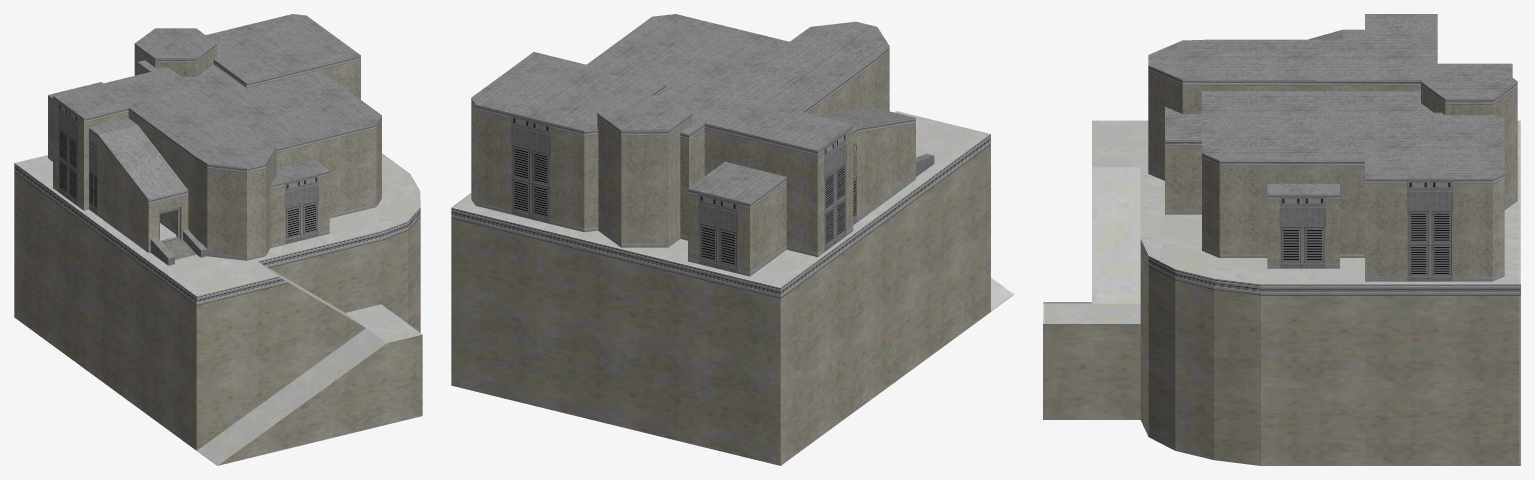
File: ply_all_house_lg_s02_fp1_r0_mesh_l2.fbx
The picture shows the model from 3 angles, left to right: view 1: azimuth 30°, elevation 25°; view 2: azimuth 150°, elevation 25°; view 3: azimuth 270°, elevation 25°; orthographic projection. The views are drawn at different scales.
Parts seen in each view (by area): view 1: mesh_node; view 2: mesh_node; view 3: mesh_node.
Part boxes in pixels (left/top/right/bottom): mesh_node: left=14, top=14, right=422, bottom=465; mesh_node: left=451, top=14, right=1014, bottom=465; mesh_node: left=1043, top=14, right=1520, bottom=465.
Size of the model in its own units: 31.97 by 27.36 by 39.4.
